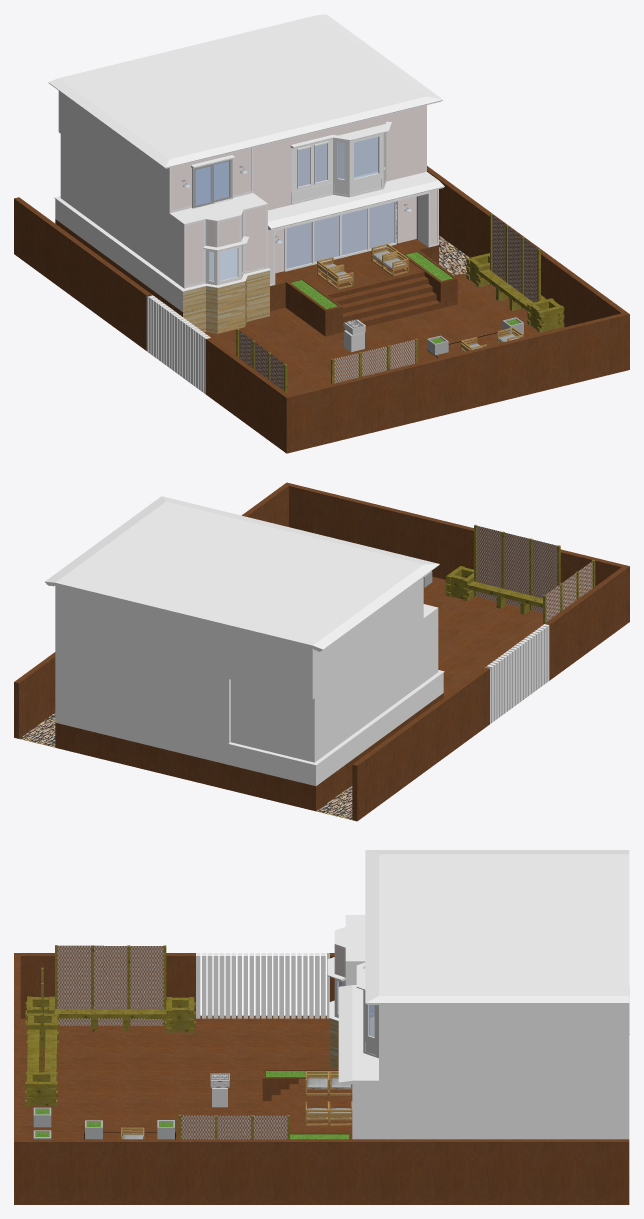
The model's file is backyard_design_of_residential_house.glb.
3 views of the same model, one above another, from view 1: azimuth 30°, elevation 25°; view 2: azimuth 150°, elevation 25°; view 3: azimuth 270°, elevation 25° (orthographic). The views are drawn at different scales.
Visible parts, largest first — view 1: Model, Group70, Group5, Group3, Group1, Group29, Group20, Group41, Group32, Group19, Group24, SLIDE_LEAF (+4 smaller); view 2: Model, Group70, Group5, Group1, Group3, Group41; view 3: Model, Group70, Group41, Group5, Group29, Group79.
Boxes of the visible parts, box(x1,y1,x2,y2) form: Model: box(48, 14, 564, 392); Group70: box(14, 166, 629, 453); Group5: box(60, 134, 267, 288); Group3: box(54, 196, 270, 312); Group1: box(55, 219, 438, 333); Group29: box(291, 124, 386, 204); Group20: box(286, 202, 394, 268); Group41: box(146, 294, 210, 394); Group32: box(352, 135, 380, 180); Group19: box(284, 201, 396, 271); Group24: box(193, 163, 213, 207); SLIDE_LEAF: box(214, 159, 231, 202); Model: box(45, 496, 595, 764); Group70: box(14, 482, 629, 821); Group5: box(231, 604, 438, 762); Group1: box(55, 693, 443, 811); Group3: box(228, 670, 444, 785); Group41: box(485, 624, 549, 723); Model: box(25, 850, 629, 1139); Group70: box(14, 953, 629, 1204); Group41: box(196, 953, 329, 1018); Group5: box(334, 915, 365, 1017); Group29: box(363, 968, 378, 1058); Group79: box(210, 1073, 229, 1107).
Bounding box in the file's own units: 600 × 276 × 826.
31 materials, 15 textured.
